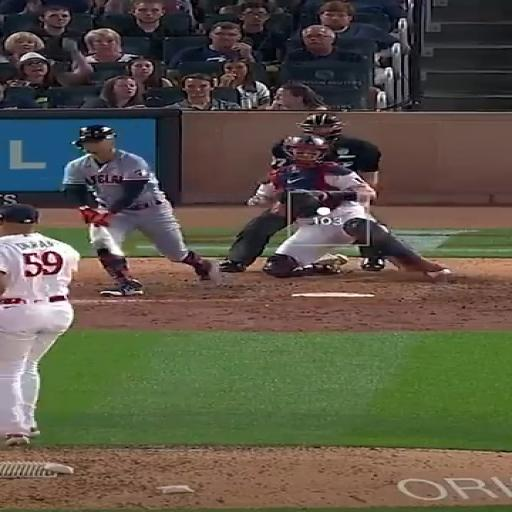bat: (90, 224, 125, 256)
